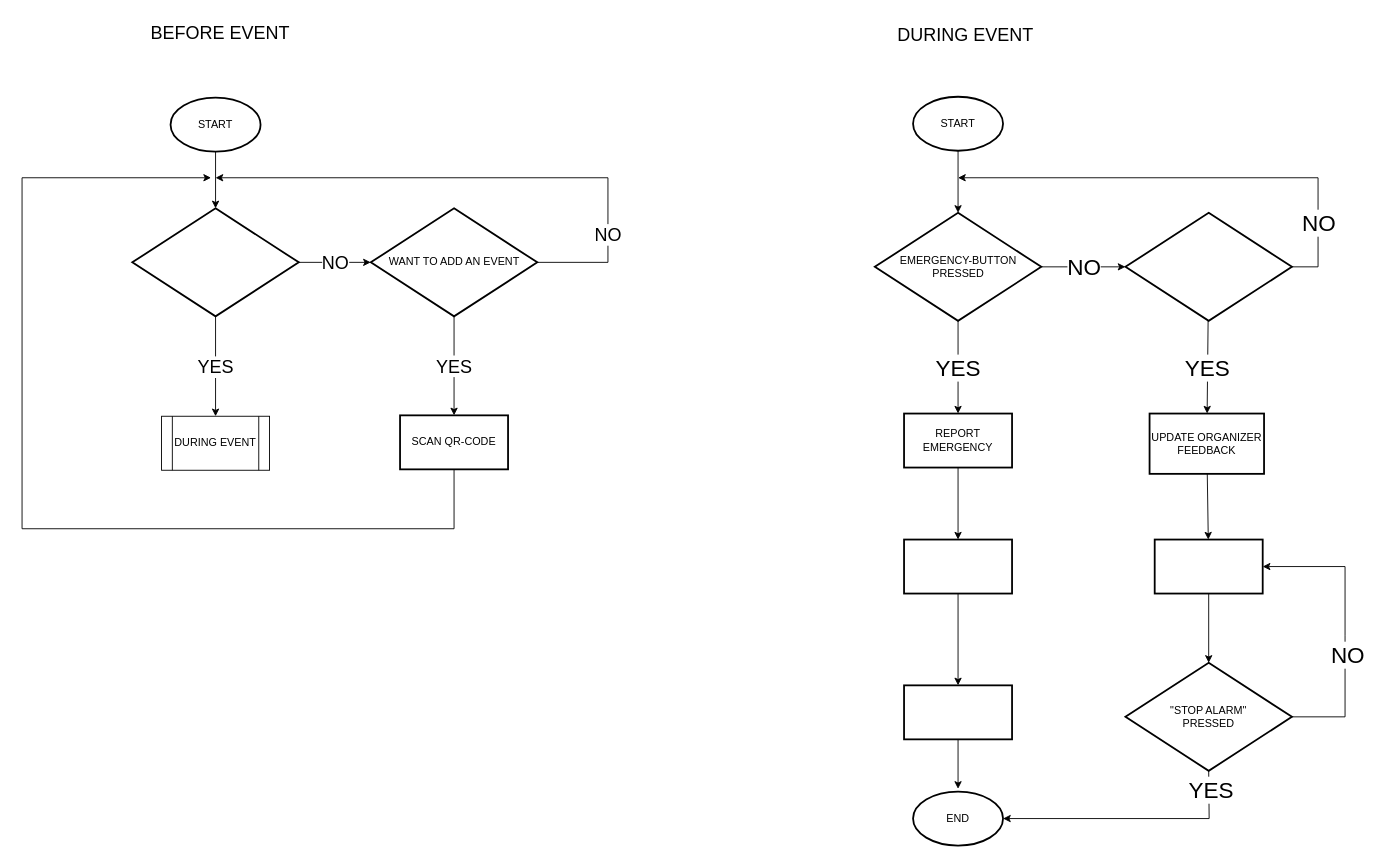
Image size: 1380x861. Some labels were removed from this diagram. Here are the shapes that lost their labels. From the top down, the centre of each, then its label:
At (215,262): "IS AN EVENT GOING ON".
At (1208,266): "ALARM RECIEVED".
At (957,566): "BLOCK EMERGENCY-BUTTON".
At (1208,566): "VIBRATE".
At (957,712): "UPDATE REPORT STATE".
